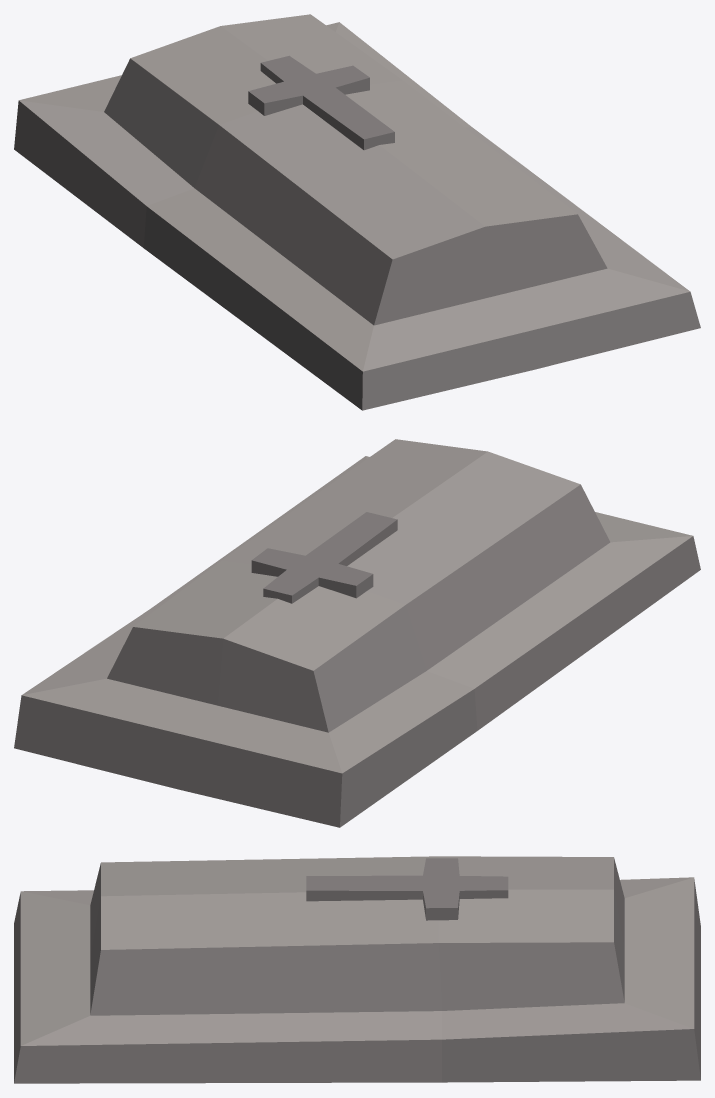
The model's file is grave-stone.glb.
3 renders of one model, top to bottom at view 1: azimuth 30°, elevation 25°; view 2: azimuth 150°, elevation 25°; view 3: azimuth 270°, elevation 25°, orthographic. The views are drawn at different scales.
Parts seen in each view (by area): view 1: grave-stone; view 2: grave-stone; view 3: grave-stone.
Part boxes in pixels (x1=…): grave-stone: x1=14, y1=14, x2=700, y2=410; grave-stone: x1=14, y1=439, x2=700, y2=827; grave-stone: x1=14, y1=856, x2=700, y2=1083.
Size of the model in its own units: 1.12 by 0.3946 by 2.04.
1 material, 1 textured.
